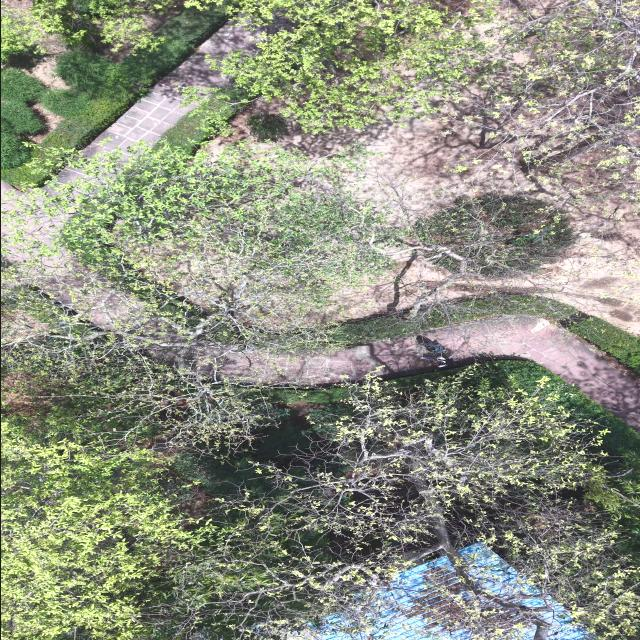DRY_AREA: (256, 85, 639, 336), (257, 115, 639, 336), (255, 117, 639, 335), (212, 316, 639, 430), (279, 117, 531, 214), (423, 317, 639, 430), (425, 318, 639, 430), (83, 23, 256, 157), (83, 23, 255, 157), (84, 23, 254, 156), (496, 200, 639, 335), (440, 238, 639, 335), (359, 118, 533, 214), (189, 337, 435, 385), (84, 78, 193, 156), (16, 34, 72, 89), (23, 39, 72, 89)
ROOFTOP_BUILDING: (316, 556, 536, 639)
VEGETATION_TREE: (1, 0, 639, 639), (3, 288, 638, 638), (44, 0, 638, 344), (180, 374, 638, 637), (27, 145, 574, 354), (27, 143, 569, 350), (44, 142, 568, 343), (4, 286, 273, 637), (217, 0, 639, 207), (28, 144, 392, 344), (47, 145, 392, 326), (220, 0, 638, 132), (392, 360, 639, 565), (3, 285, 282, 455), (4, 283, 275, 453), (1, 422, 208, 639), (439, 0, 639, 214), (1, 0, 226, 186), (186, 0, 492, 131), (1, 8, 226, 186), (220, 0, 493, 132), (393, 360, 639, 472), (467, 360, 639, 469), (280, 292, 577, 350), (413, 196, 571, 278), (1, 0, 182, 61), (31, 0, 180, 50), (162, 86, 251, 152), (162, 84, 254, 147), (1, 69, 47, 169), (568, 317, 639, 373), (1, 7, 48, 61), (55, 51, 116, 90), (1, 68, 46, 102), (40, 89, 89, 118), (1, 102, 43, 133), (246, 114, 287, 141), (1, 132, 30, 168)
